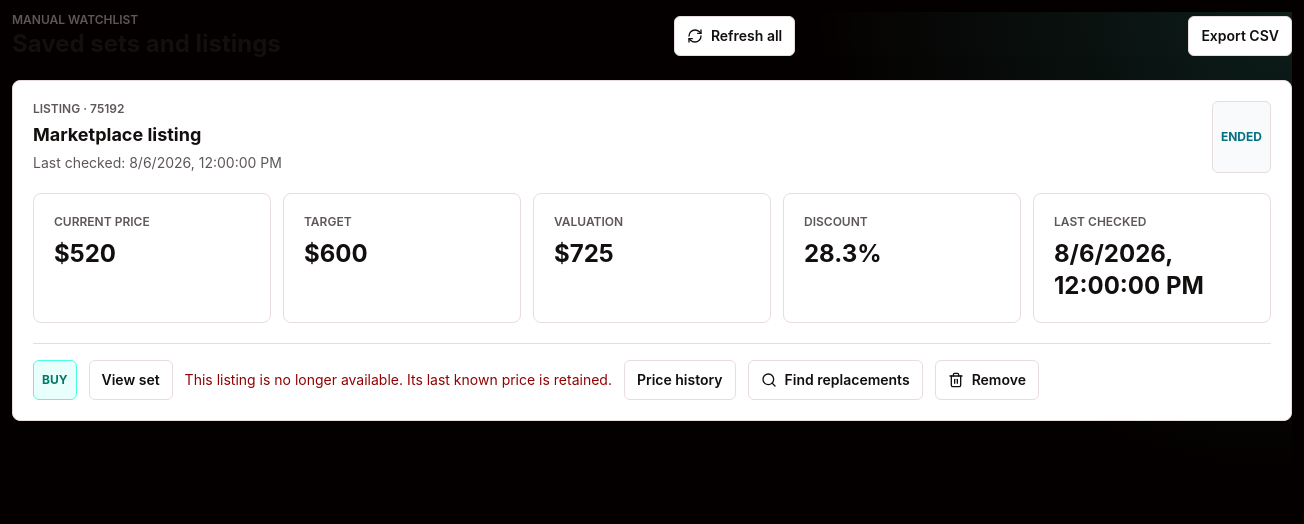
Test: WatchlistPage › keeps ended listings visible without a move action
Expected: the text "no longer available" is shown, [185,371,612,388]
Click the button "Find replacements". click: (835, 380)
box: [748,360,923,400]
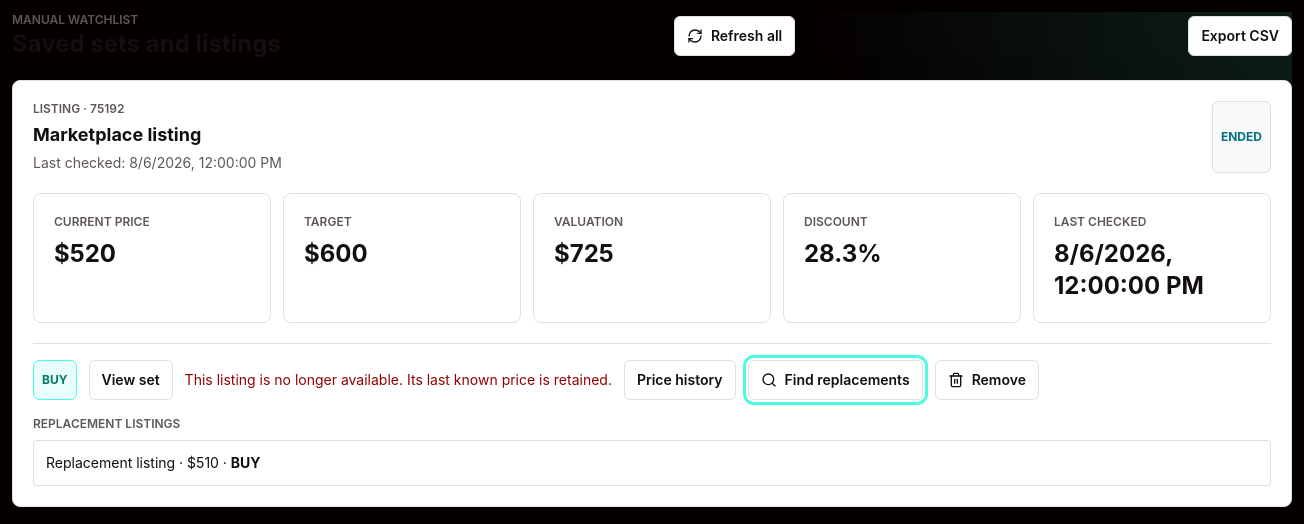
Expected: the link "Replacement listing · $510 · BUY" is shown, [33,440,1271,486]
